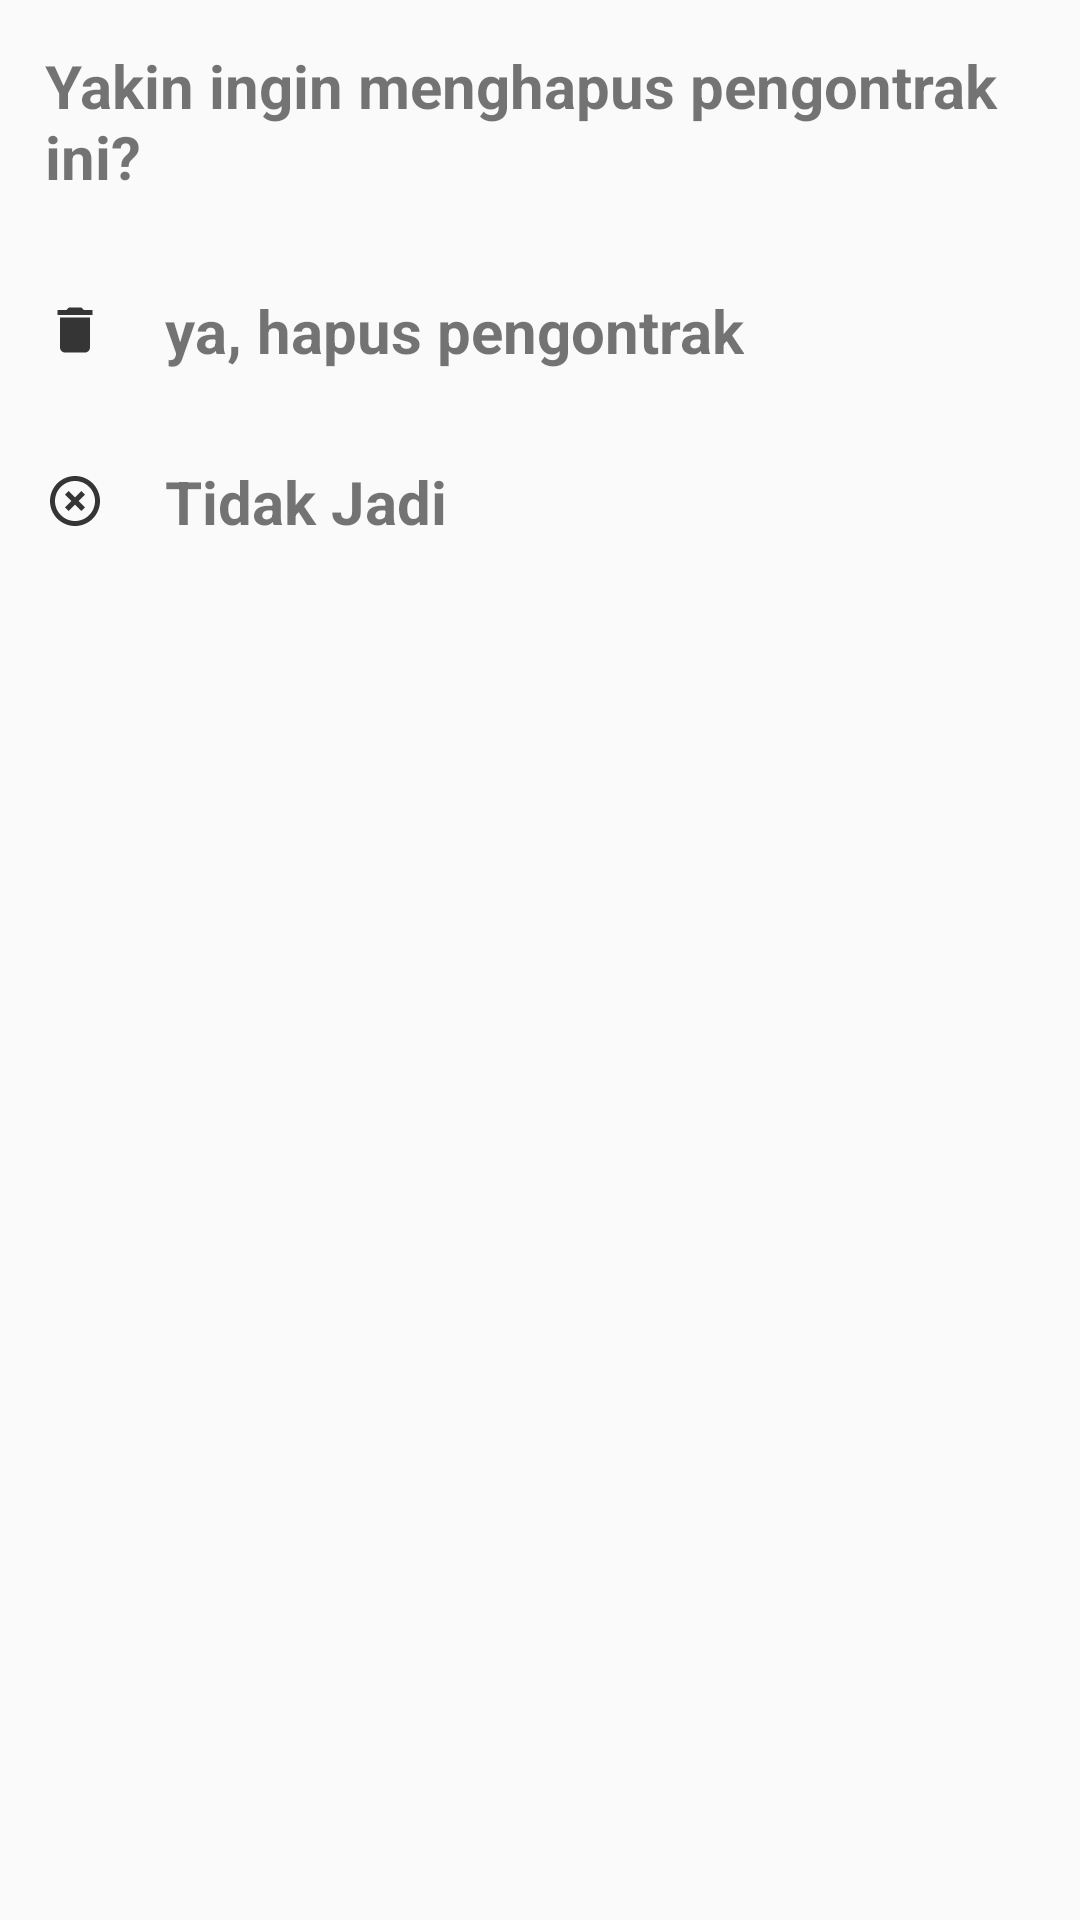

Point at icon controls on the screen. Image size 1080x1920, points as (x,y).
circle close: (75,501)
delete: (75,330)
